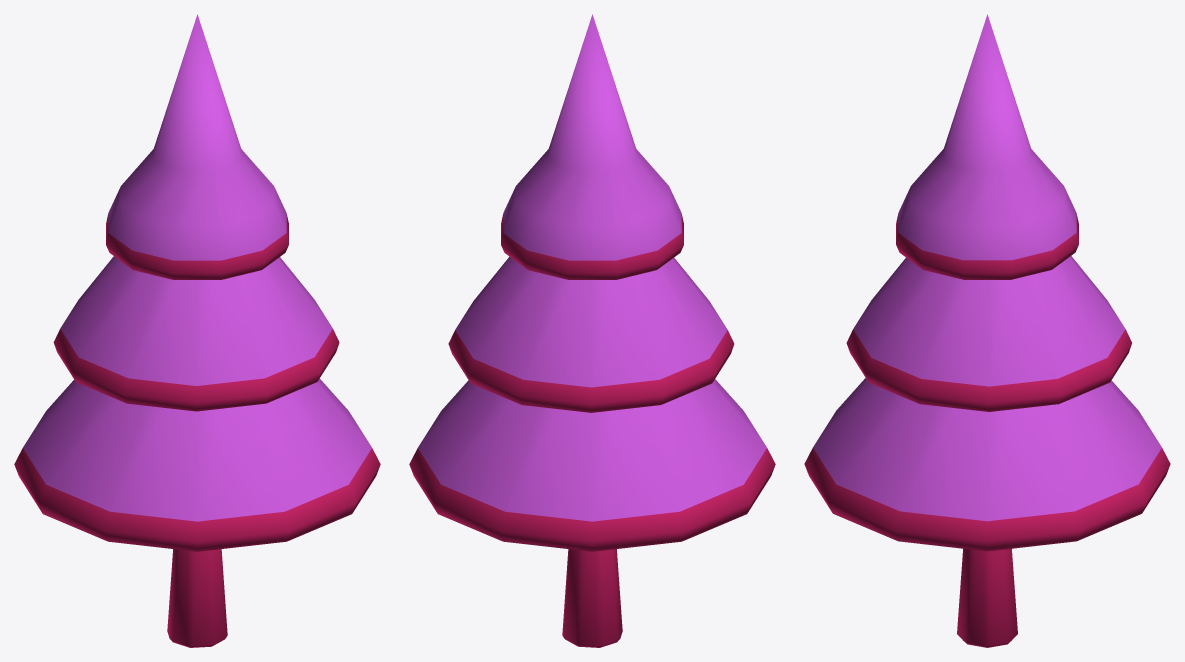
File: tree_pink.fbx
3 views of the same model, side by side, from view 1: azimuth 30°, elevation 25°; view 2: azimuth 150°, elevation 25°; view 3: azimuth 270°, elevation 25° (orthographic).
Parts seen in each view (by area): view 1: tree_pink; view 2: tree_pink; view 3: tree_pink.
Boxes of the visible parts, x1,y1,x2,y2 form: tree_pink: [14, 14, 380, 647]; tree_pink: [409, 14, 775, 647]; tree_pink: [804, 14, 1170, 647].
Size of the model in its own units: 0.7475 by 1.4 by 0.7475.
